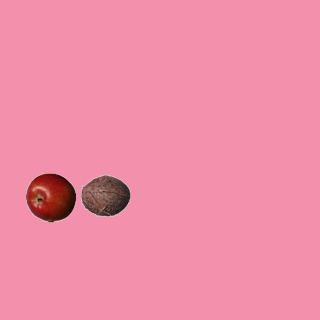Apple Braeburn: (25, 172, 75, 222)
Cocos: (80, 170, 130, 220)
